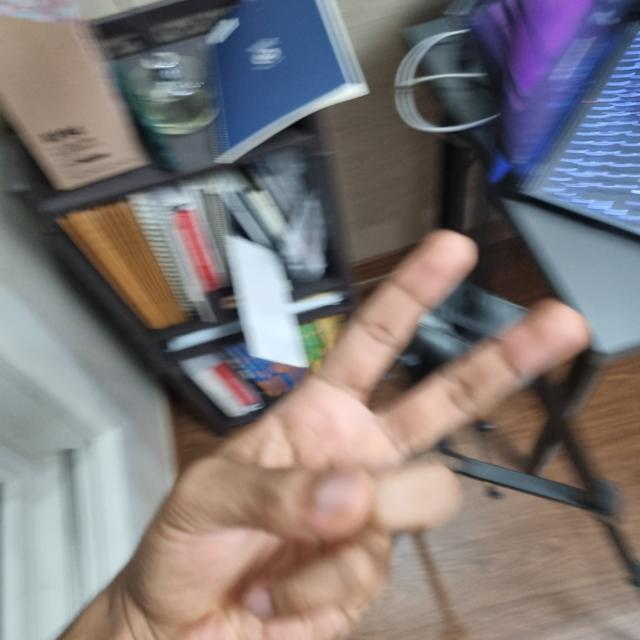Scissors: (124, 230, 586, 638)
